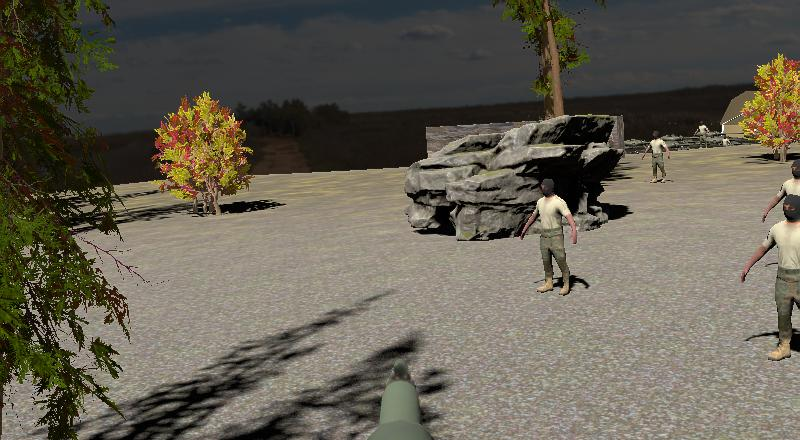Human: (737, 141, 800, 365), (518, 171, 580, 298), (642, 127, 672, 186)
Tank: (621, 135, 652, 155)
